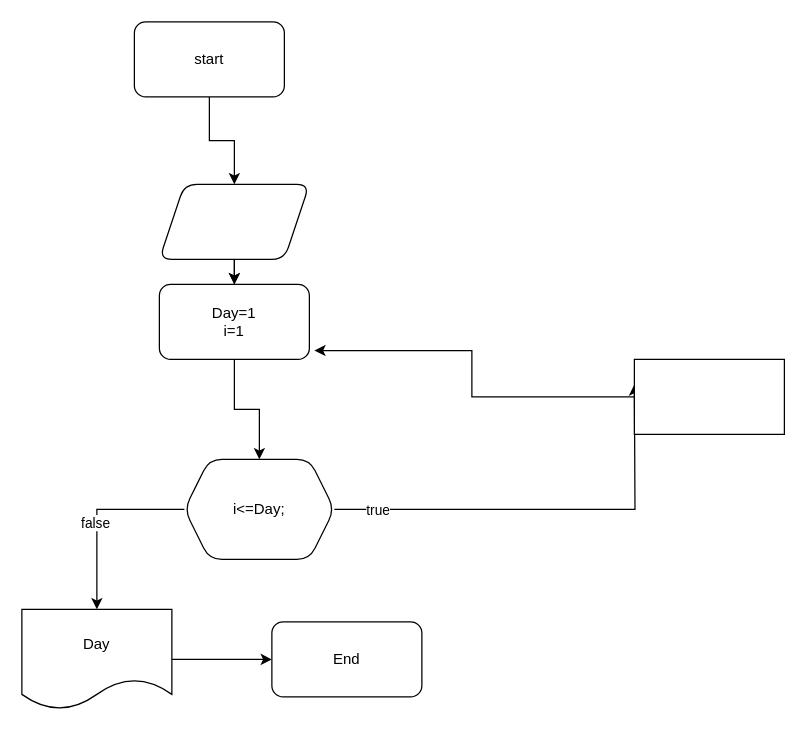
This 806x731 diagram has some shape labels left out. The shapes that lost their labels are listed below. From the top down, each one's centre as x and y in pixels, then its label:
(x=233, y=221): Number
(x=708, y=396): Dayx=i i++
